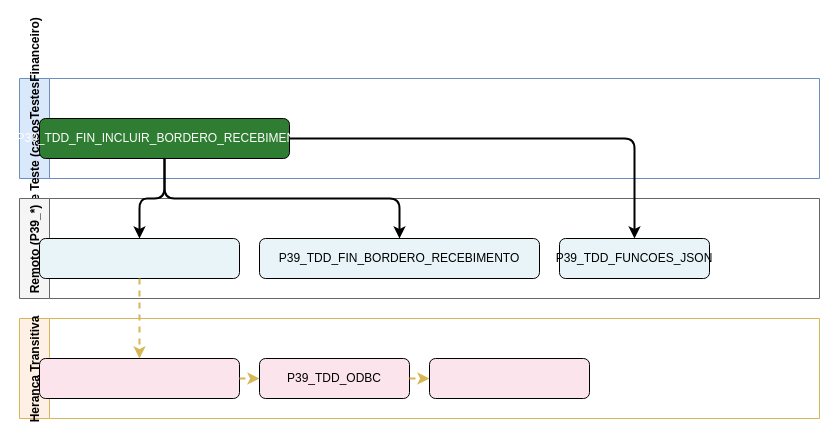
The diagram is 837 pixels wide and 440 high, and some of its shapes have lost their labels. Each missing label, with the centre of its shape:
P39_TDD_CARREGAR_CASO_TESTE: (x=139, y=258)
P39_TDD_CONSTANTES: (x=509, y=378)
P39_TDD_REGISTRAR_CASO_TESTE: (x=139, y=378)
